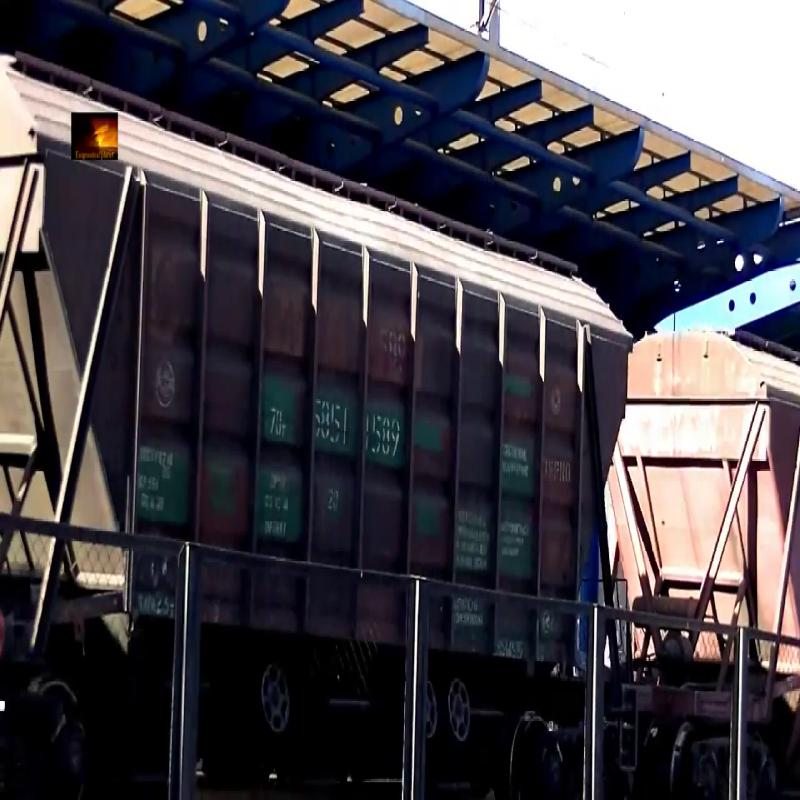train: (2, 31, 662, 781), (687, 1, 800, 775)
